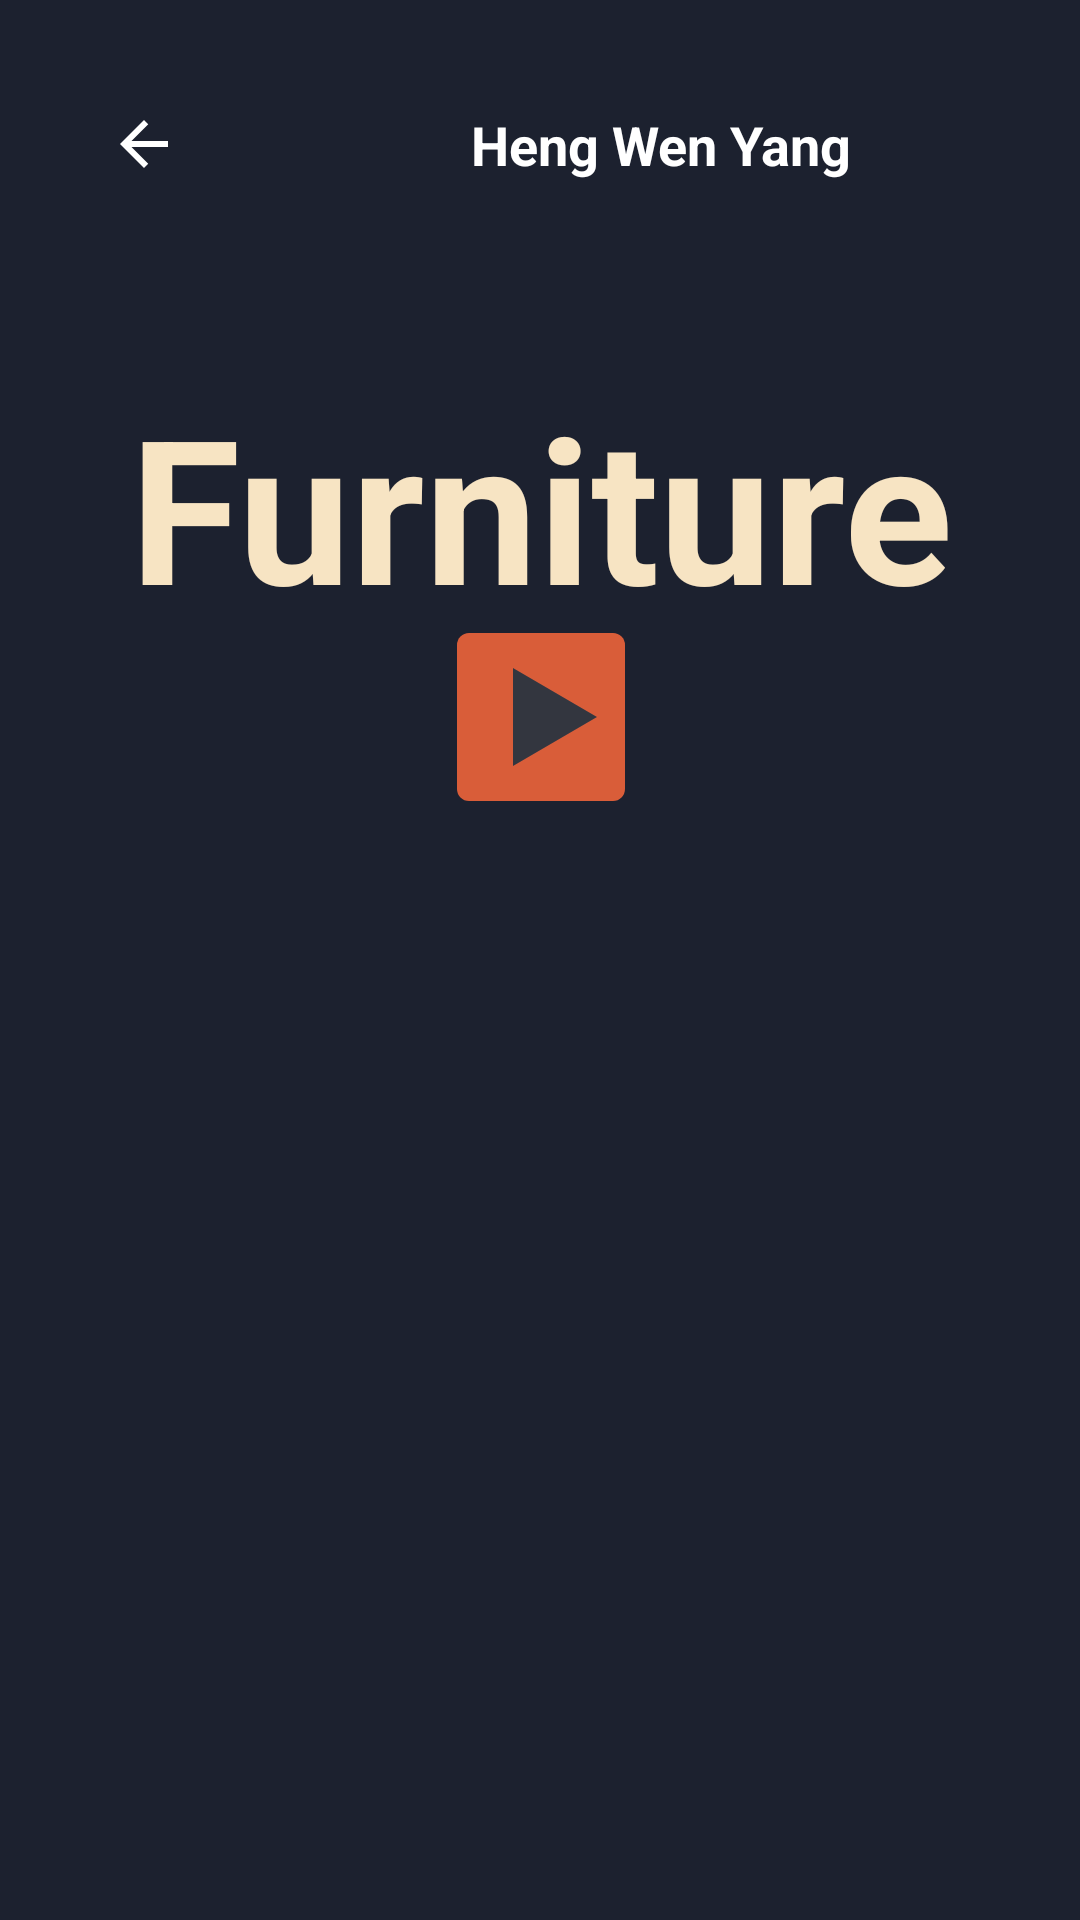

Icons on this 1080 x 1920 Android screen, each with its box as (x1, y1, x2, y2):
Back Button: (120, 120, 168, 168)
play flashcard: (457, 633, 625, 801)
